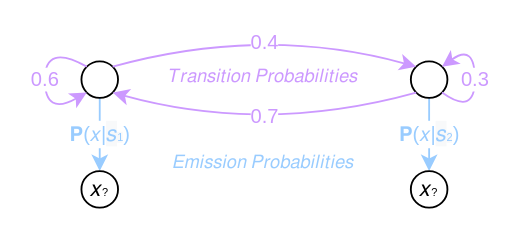
Image size: 520x240. Some labels were removed from this diagram. The shapes that lost their labels are listed below. From the top down, each one's centre as x and y in pixels, then its label:
At point (99, 78): "𝑠 1".
At point (428, 78): "𝑠 2".
